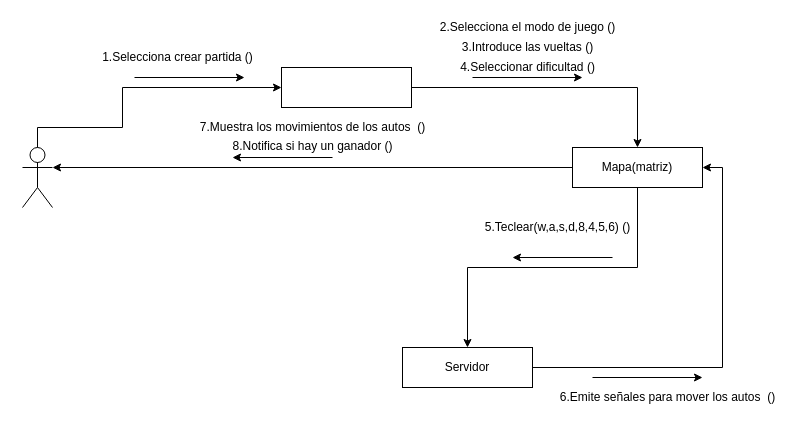
Some shapes in this 800 by 424 pixel diagram are drawn without their labels. The centre of each missing label's shape, as x and y in pixels:
"Nueva Partida" goes at [346,87].
"Usuario" goes at [37,177].
